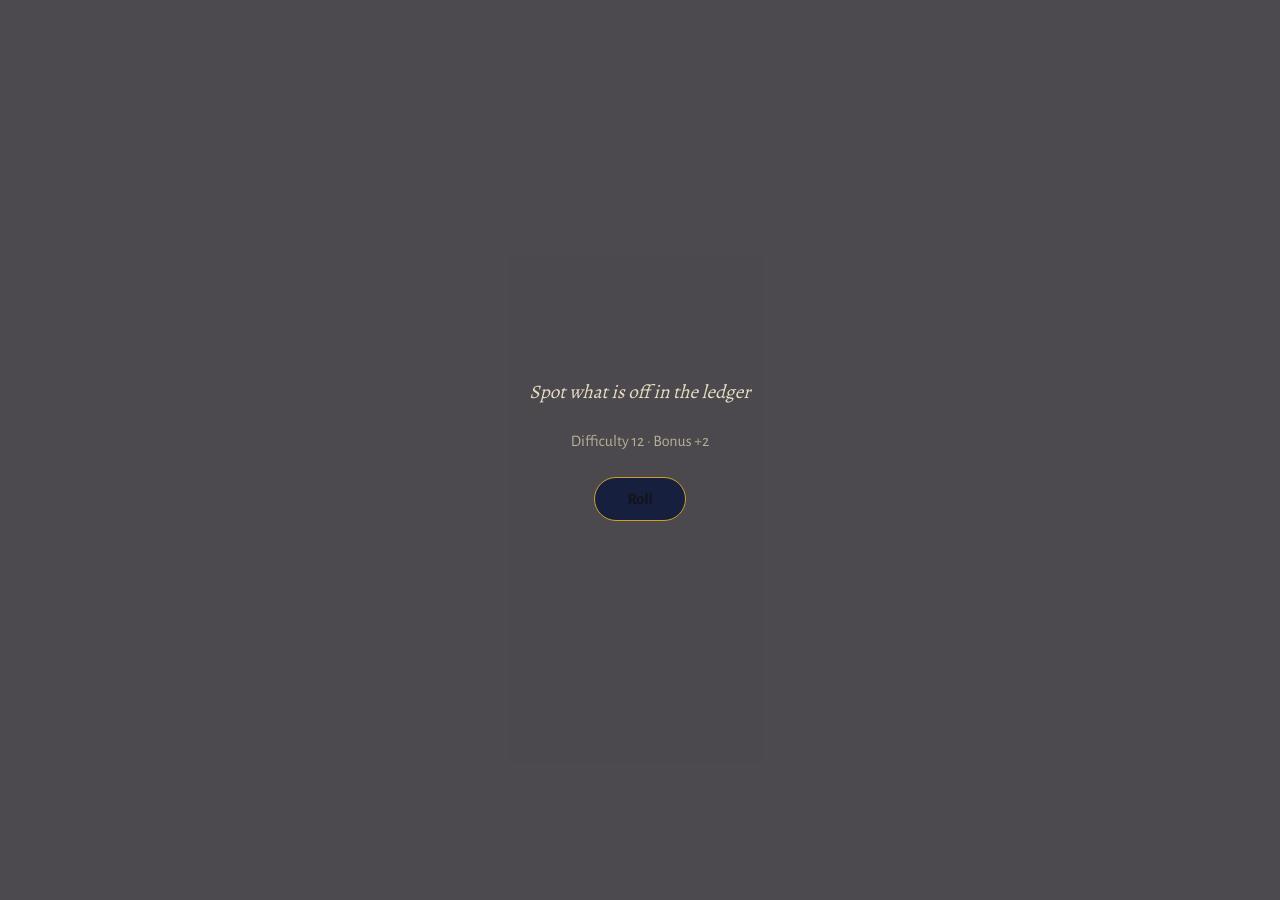
Test: DiceMoment › a natural 1 is a Setback and is labelled
Click the button "Roll": (640, 499) [594, 477, 686, 521]
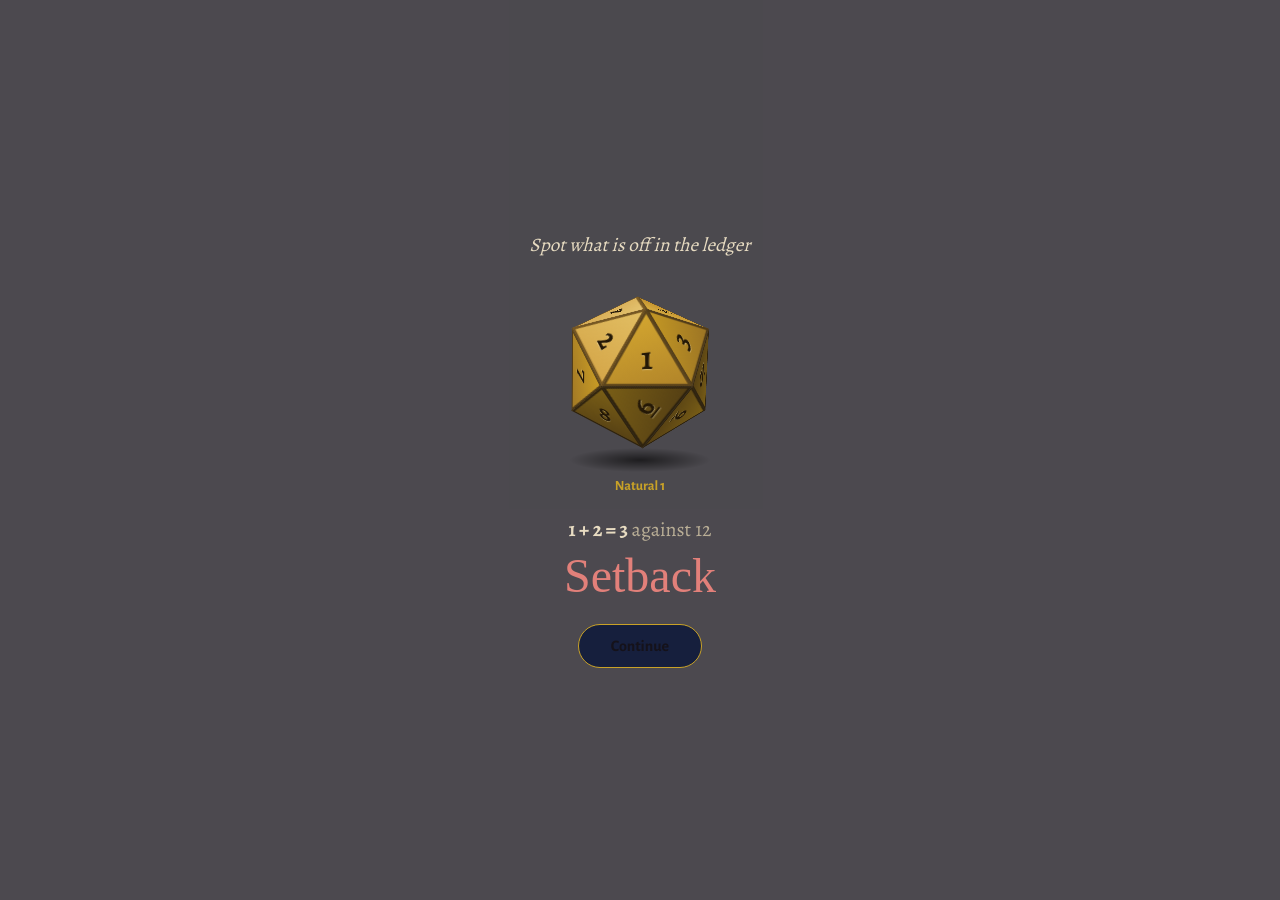
expect the text "Natural 1" is shown: met, box [615, 476, 665, 496]
expect the text with test id "dice-verdict" reads "Setback": met, box [564, 549, 716, 602]
